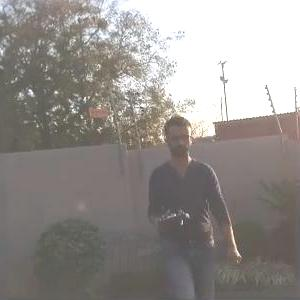follow: (142, 111, 252, 298)
